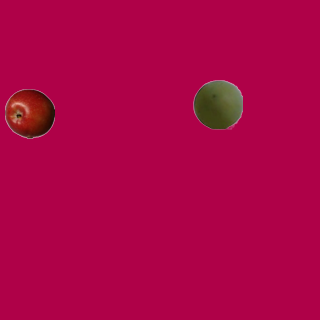Apple Braeburn: (4, 88, 54, 138)
Grape White 4: (192, 79, 242, 129)
